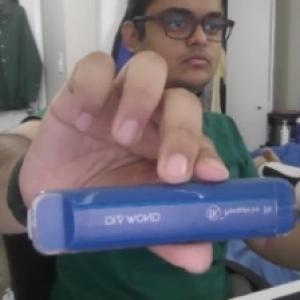Diamond-E-Ciggirate: (24, 175, 299, 256)
